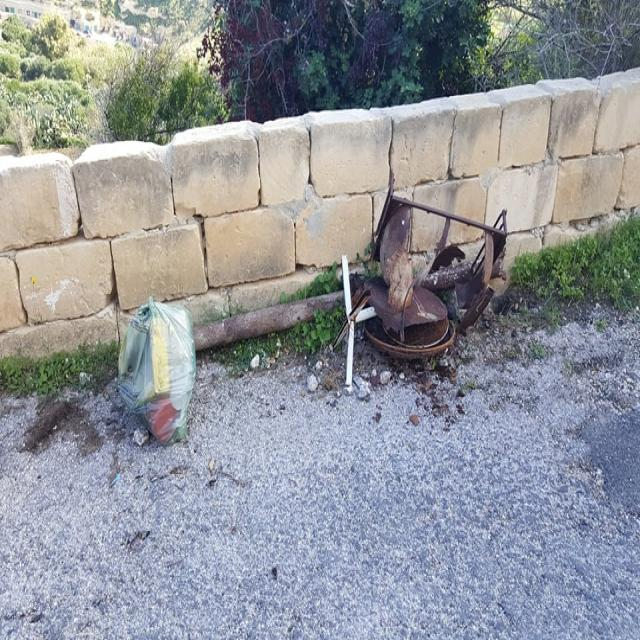Other litter: (338, 186, 512, 390), (194, 288, 341, 353)
Plastic bag - wrapper: (114, 295, 196, 445)
